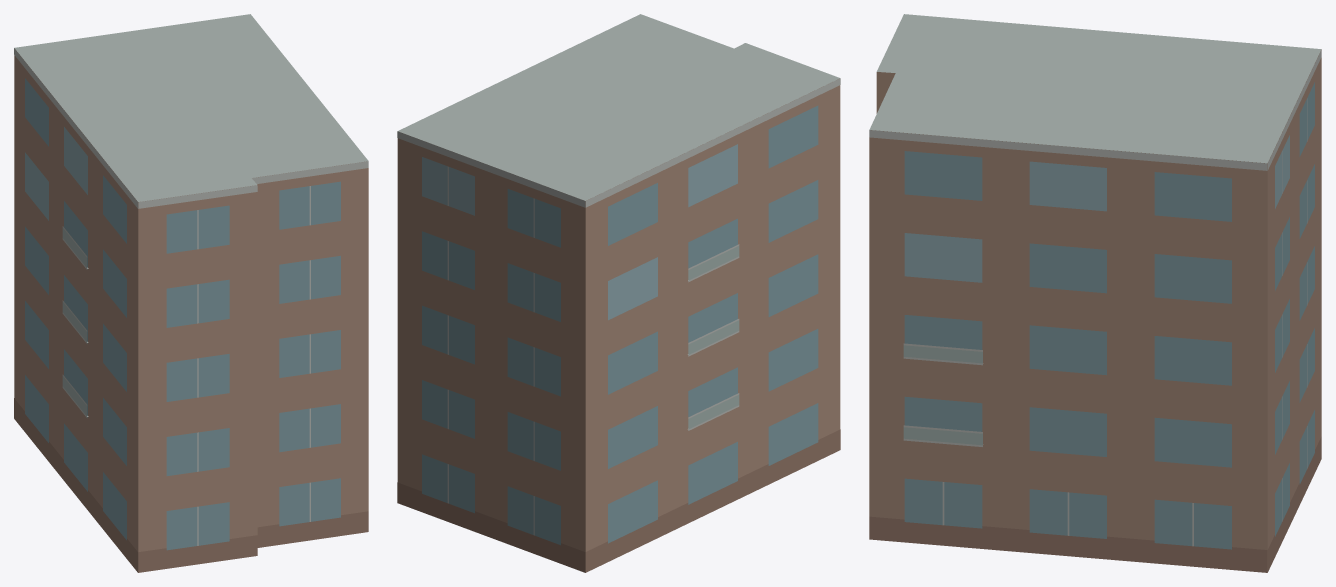
Rendered from survey-upis-33033337.glb.
The picture shows the model from 3 angles, left to right: view 1: azimuth 30°, elevation 25°; view 2: azimuth 150°, elevation 25°; view 3: azimuth 270°, elevation 25°; orthographic projection. The views are drawn at different scales.
Parts seen in each view (by area): view 1: survey-upis-33033337.tmp; view 2: survey-upis-33033337.tmp; view 3: survey-upis-33033337.tmp.
Boxes of the visible parts, x1,y1,x2,y2 form: survey-upis-33033337.tmp: [14, 14, 368, 572]; survey-upis-33033337.tmp: [397, 14, 840, 572]; survey-upis-33033337.tmp: [869, 14, 1321, 572].
Size of the model in its own units: 10.33 by 13.2 by 13.22.
